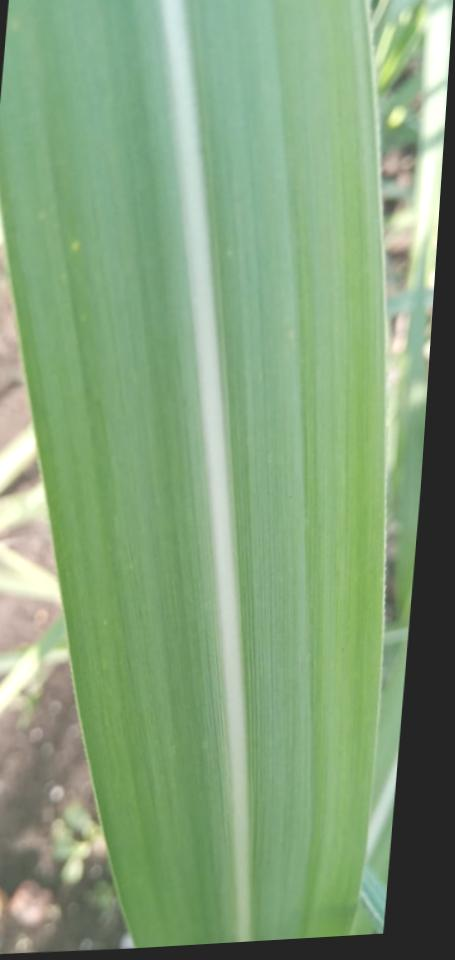Healthy: (0, 0, 385, 947)
